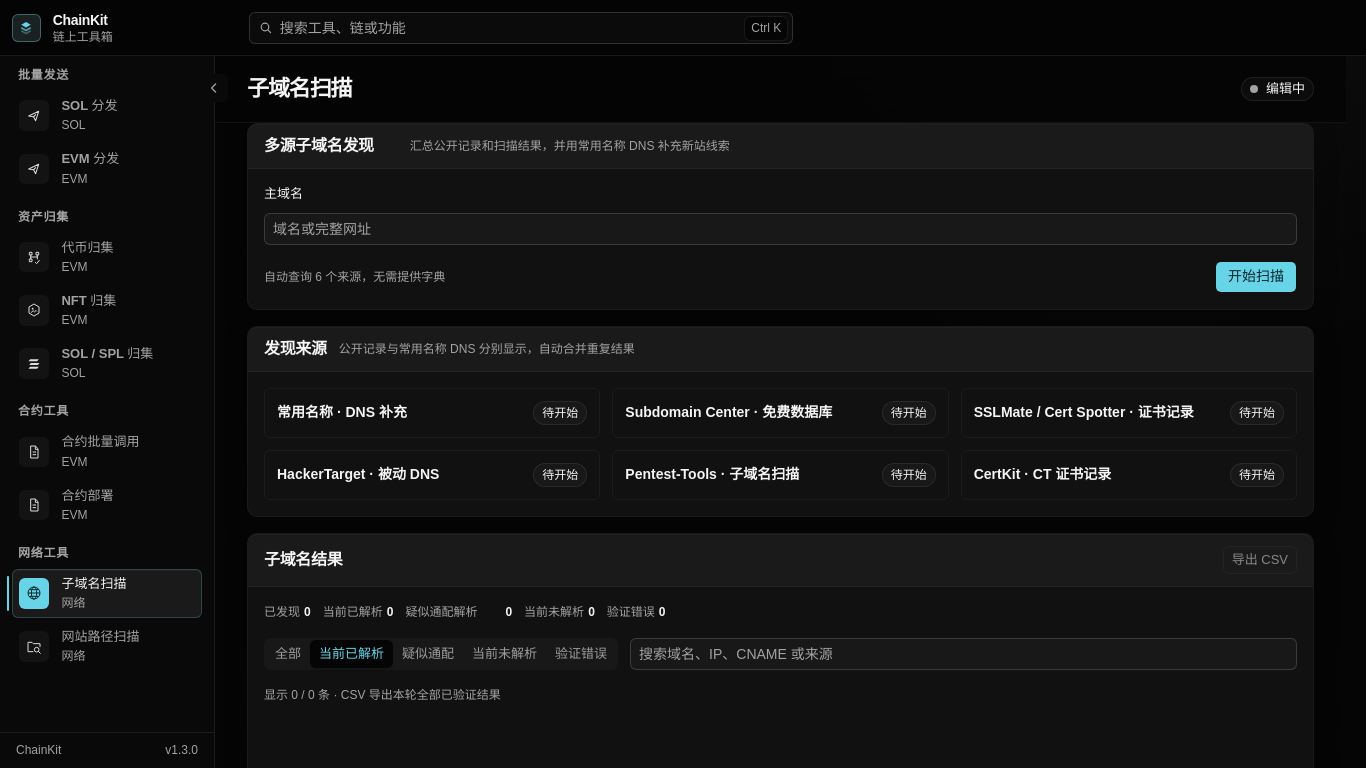
it: Subdomain discovery workbench › distinguishes zero discoveries when sources finish with error
Type "example.com" into the field labelled "主域名" at (780, 229), box [264, 213, 1297, 245]
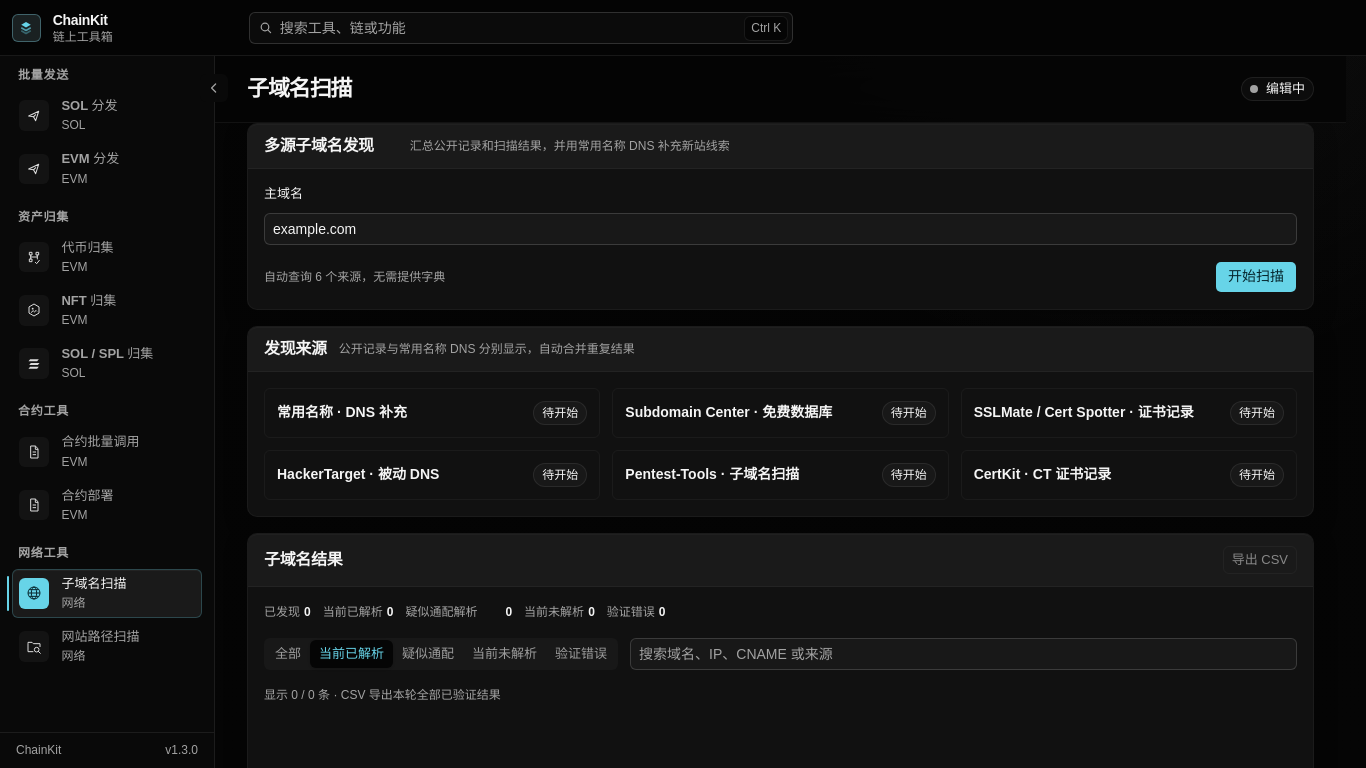
Click the button "开始扫描" at (1256, 277), box [1215, 261, 1297, 293]
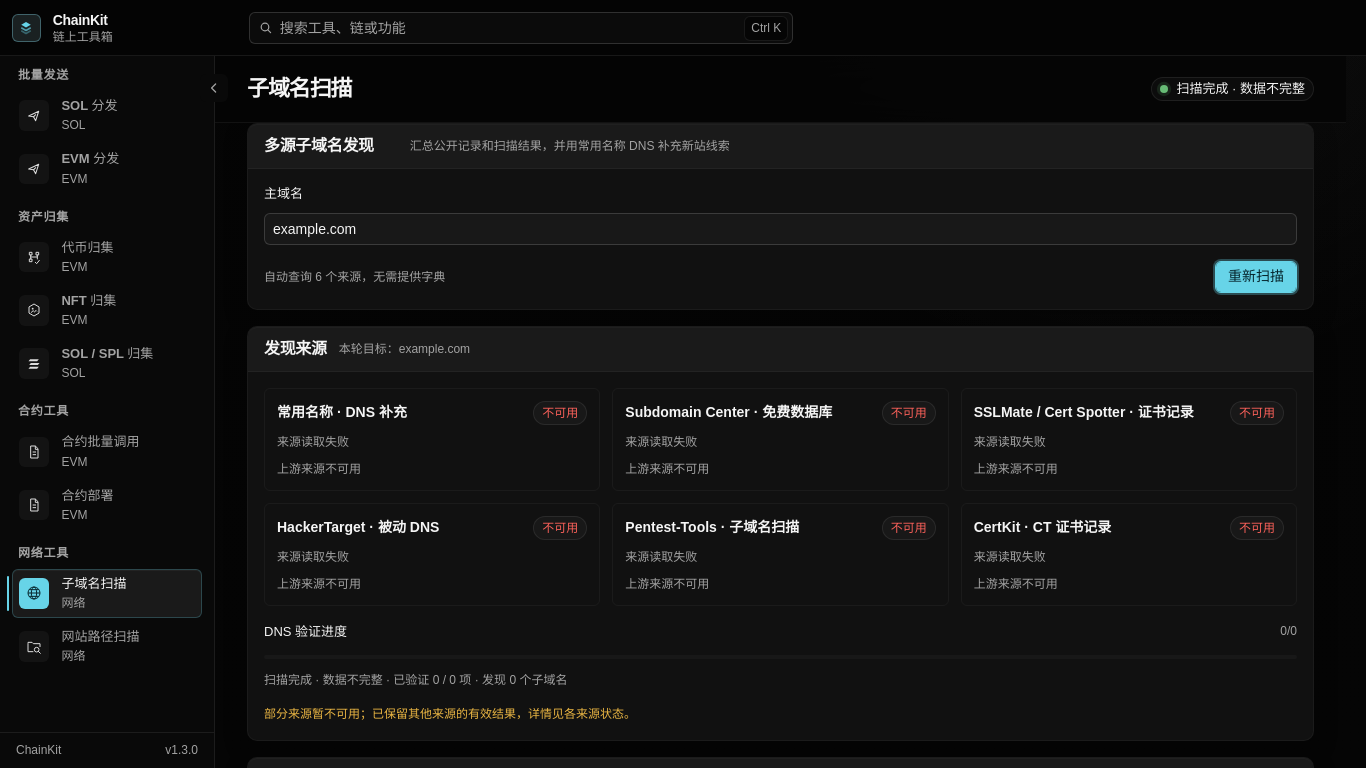
Check: the message "扫描完成 · 数据不完整" is shown, box [1151, 77, 1314, 101]
